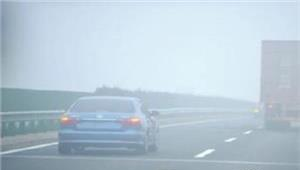bus: (259, 37, 300, 129)
car: (57, 94, 159, 155)
